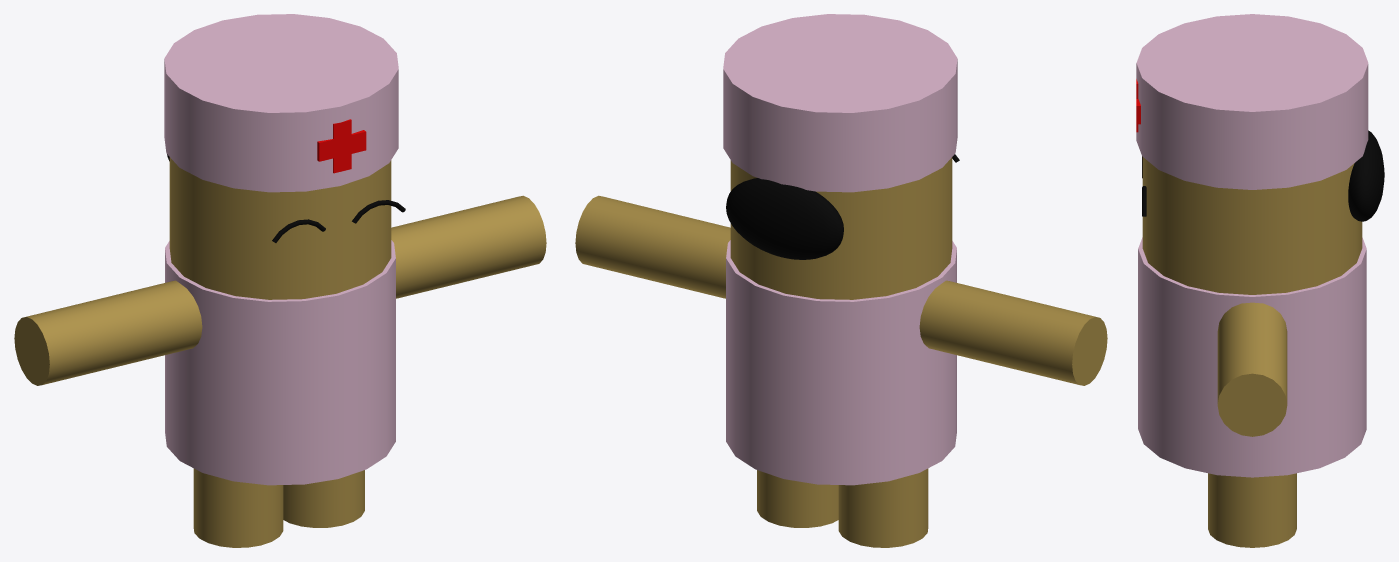
File: nurse.fbx
3 views of the same model, side by side, from view 1: azimuth 30°, elevation 25°; view 2: azimuth 150°, elevation 25°; view 3: azimuth 270°, elevation 25° (orthographic).
Visible parts, largest first — view 1: nurse2; view 2: nurse2; view 3: nurse2.
Part boxes in pixels (x1,y1,x2,y2): nurse2: (14,14,546,547); nurse2: (575,14,1107,547); nurse2: (1136,14,1384,547).
Size of the model in its own units: 5.15 by 4.5 by 2.26.
